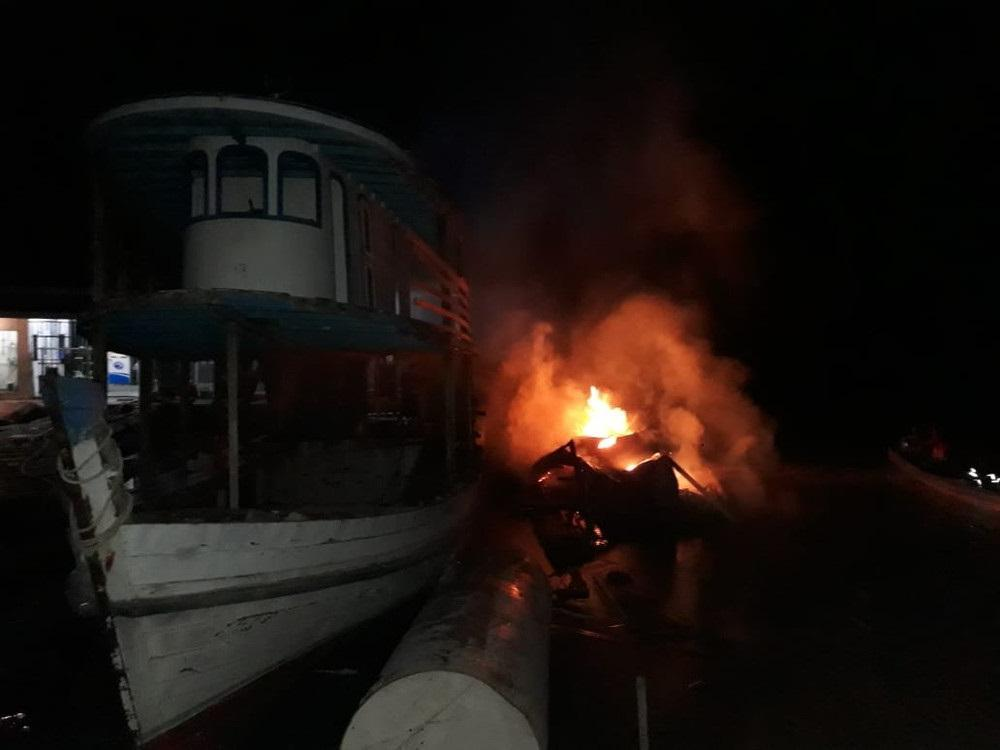Fire: (572, 379, 640, 461)
